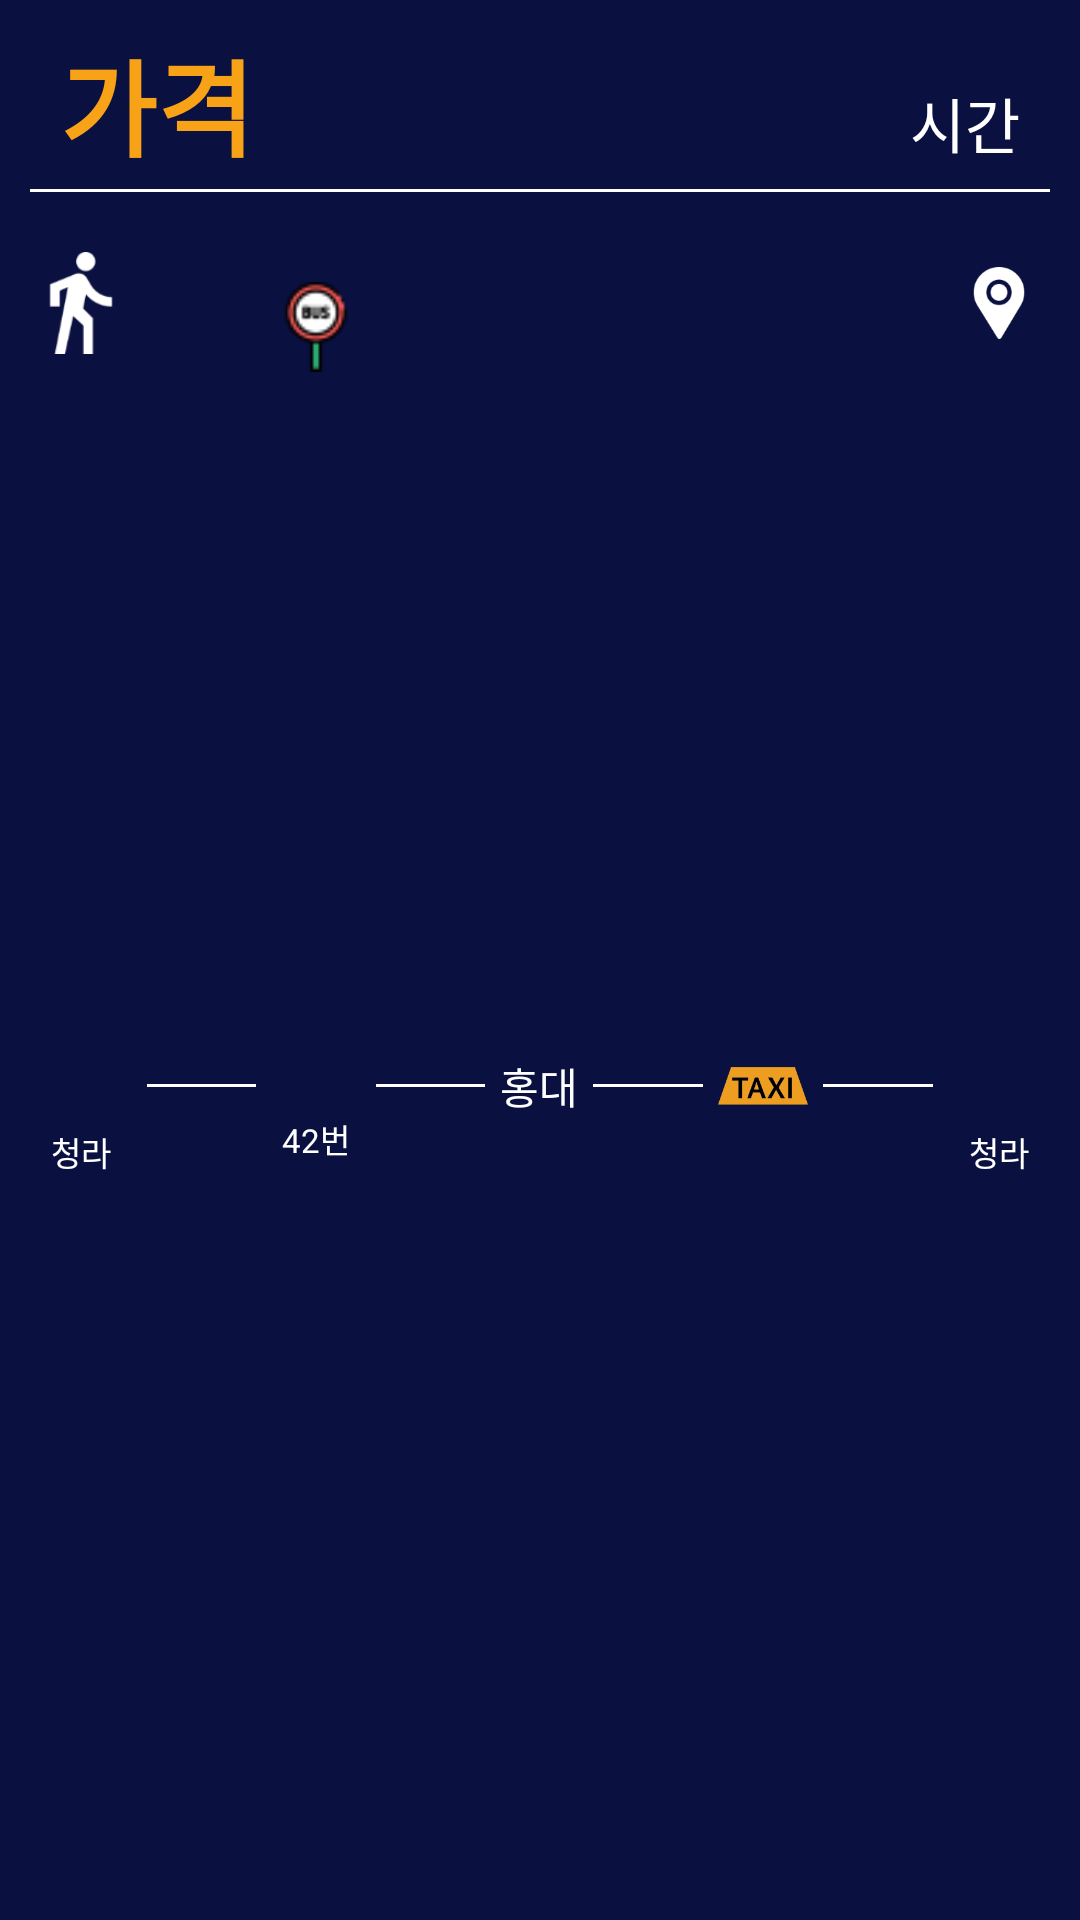

Named icons in this screenshot (1080x1920) and their centers, (x,y):
destination: (999,303)
human: (81,303)
